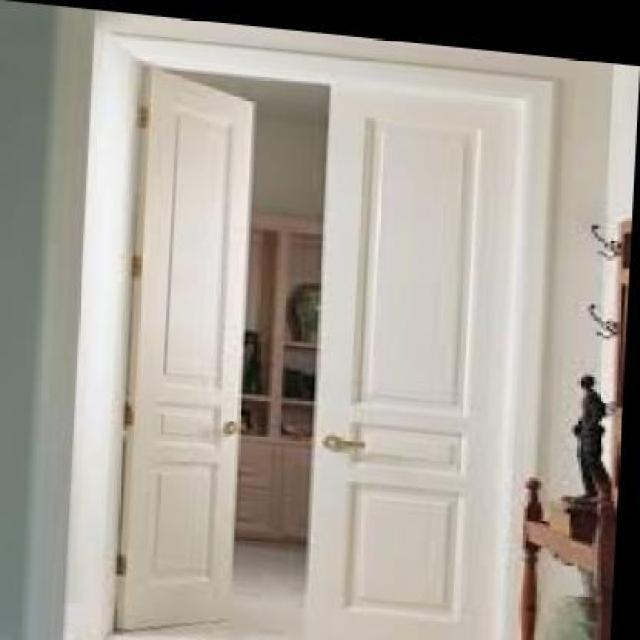door: (300, 83, 520, 640), (107, 78, 259, 636)
